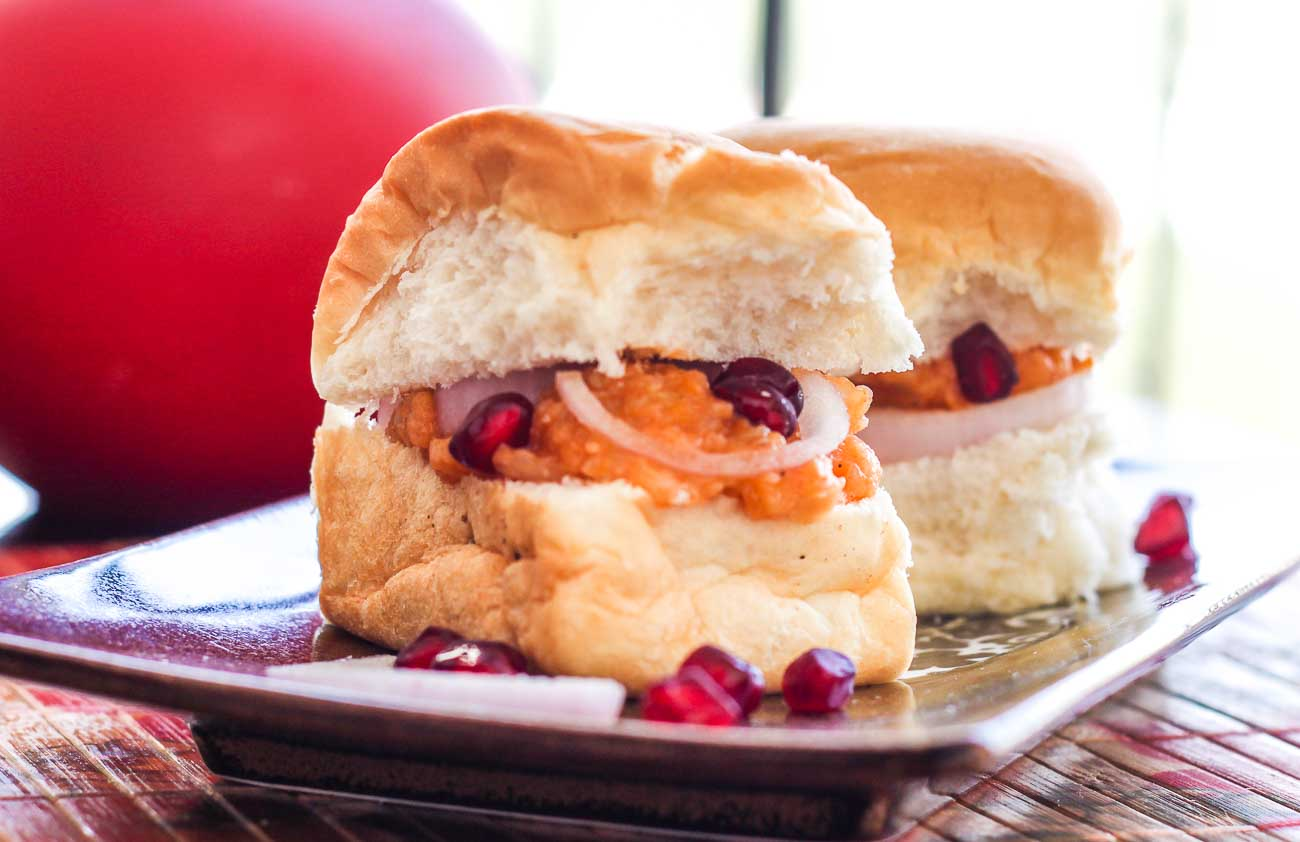vada pav: (299, 98, 908, 659), (923, 101, 1141, 583)
